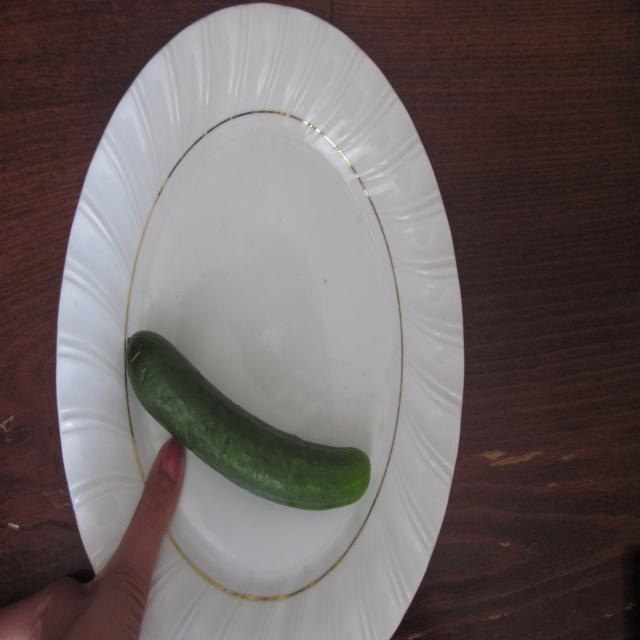Cucumber: (119, 320, 375, 509)
Finger: (134, 432, 187, 560)
